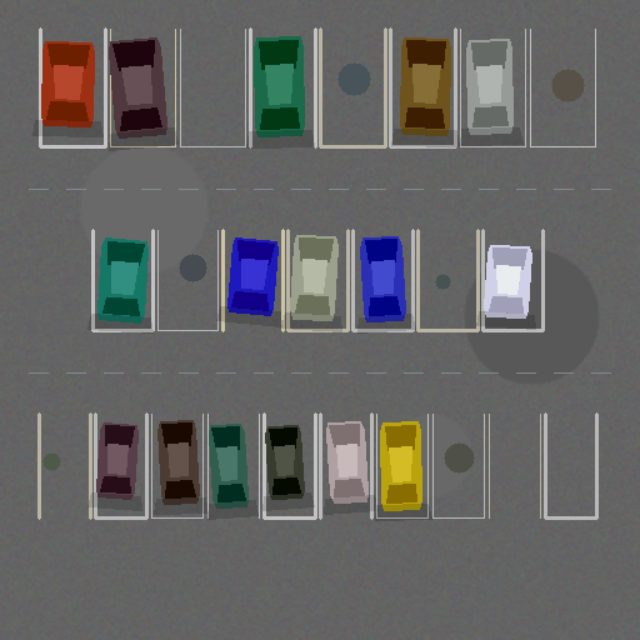space-empty: (180, 29, 245, 146), (320, 29, 385, 146), (530, 29, 595, 146), (158, 230, 218, 330), (418, 230, 478, 330), (432, 414, 484, 517), (39, 414, 90, 517), (489, 414, 540, 517), (545, 414, 596, 517)
space-occupied: (40, 29, 105, 146), (110, 29, 175, 146), (250, 29, 315, 146), (390, 29, 455, 146), (460, 29, 525, 146), (92, 230, 152, 330), (222, 230, 282, 330), (288, 230, 348, 330), (352, 230, 412, 330), (482, 230, 542, 330), (376, 414, 428, 517), (95, 414, 146, 517), (151, 414, 202, 517), (208, 414, 259, 517), (264, 414, 315, 517), (320, 414, 371, 517)
